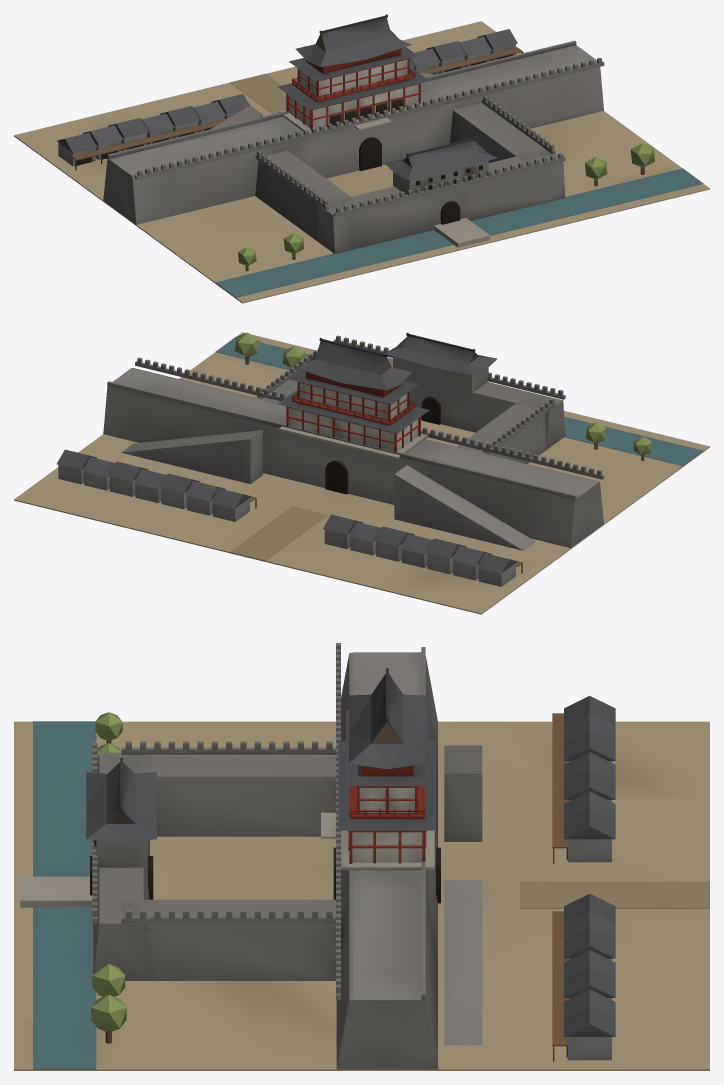
The model's file is south-gate-ming.glb.
3 views of the same model, one above another, from view 1: azimuth 30°, elevation 25°; view 2: azimuth 150°, elevation 25°; view 3: azimuth 270°, elevation 25° (orthographic). The views are drawn at different scales.
Parts seen in each view (by area): view 1: p0_walls, p1_town, p2_trees; view 2: p0_walls, p1_town, p2_trees; view 3: p0_walls, p1_town, p2_trees.
Boxes of the visible parts, x1,y1,x2,y2 form: p0_walls: (14,21,709,303); p1_town: (57,29,522,224); p2_trees: (238,14,654,271); p0_walls: (14,332,709,614); p1_town: (56,356,522,586); p2_trees: (235,332,652,460); p0_walls: (14,643,709,1070); p1_town: (90,695,615,1061); p2_trees: (86,668,436,1043).
Bounding box in the file's own units: 130 × 35.58 × 110.
